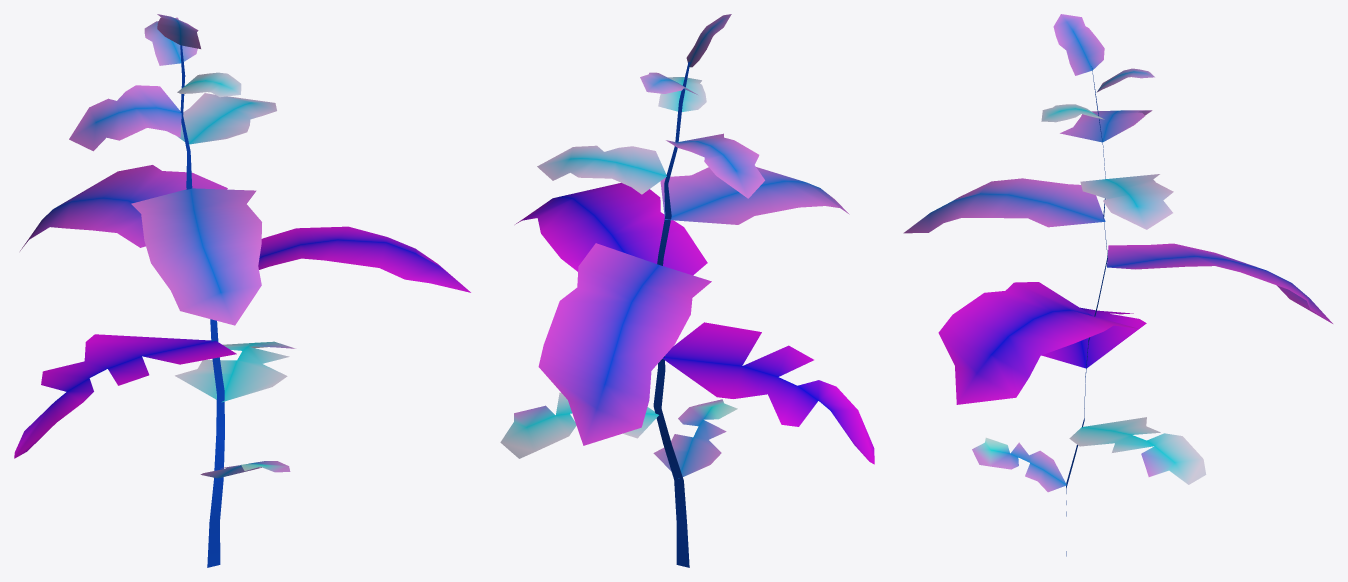
File: Black_Locust_wdvhberja_Mid_wdvhberja_VarE_LOD2.fbx
3 renders of one model, left to right at view 1: azimuth 30°, elevation 25°; view 2: azimuth 150°, elevation 25°; view 3: azimuth 270°, elevation 25°, orthographic. The views are drawn at different scales.
Parts seen in each view (by area): view 1: _q3w7_VarE_LOD3; view 2: _q3w7_VarE_LOD3; view 3: _q3w7_VarE_LOD3.
Part boxes in pixels (<box>): _q3w7_VarE_LOD3: <box>14,14,470,567</box>; _q3w7_VarE_LOD3: <box>500,14,874,567</box>; _q3w7_VarE_LOD3: <box>903,14,1332,556</box>.
Bounding box in the file's own units: 36.68 × 49.94 × 36.78.
